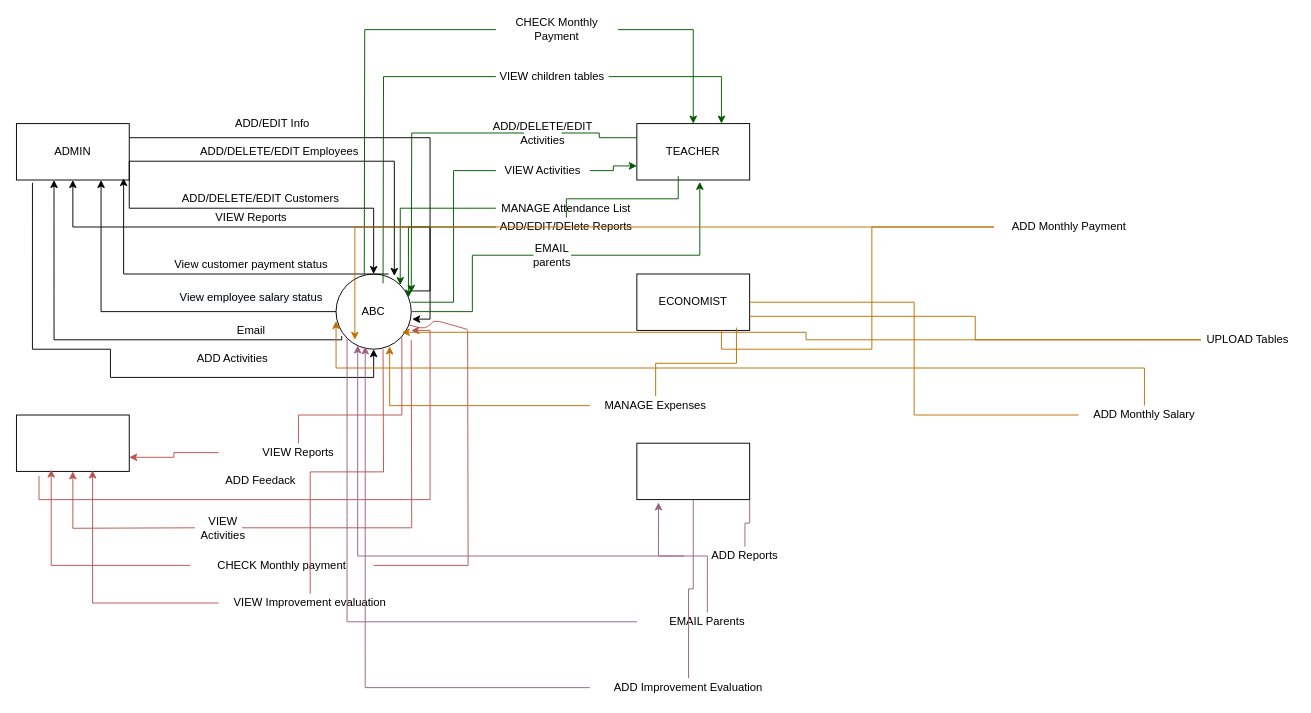
Image size: 1311x713. Some labels were removed from this diagram. Each missing label, with the centre of its shape:
"PARENT" goes at pixel 72 442.
"PSYCHOLOGIST" goes at pixel 693 471.
